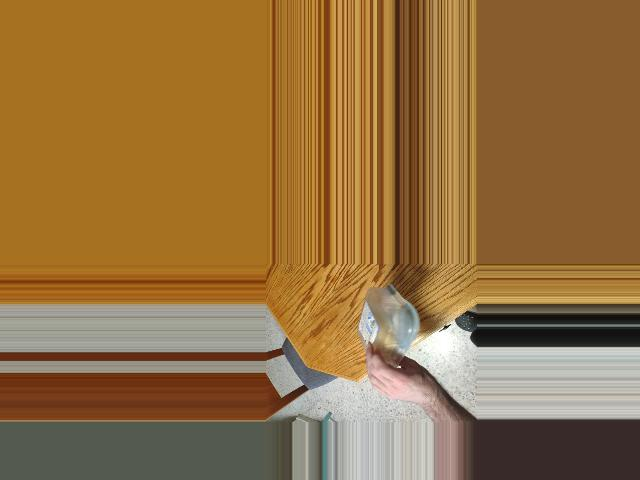cheese: (360, 289, 411, 380)
